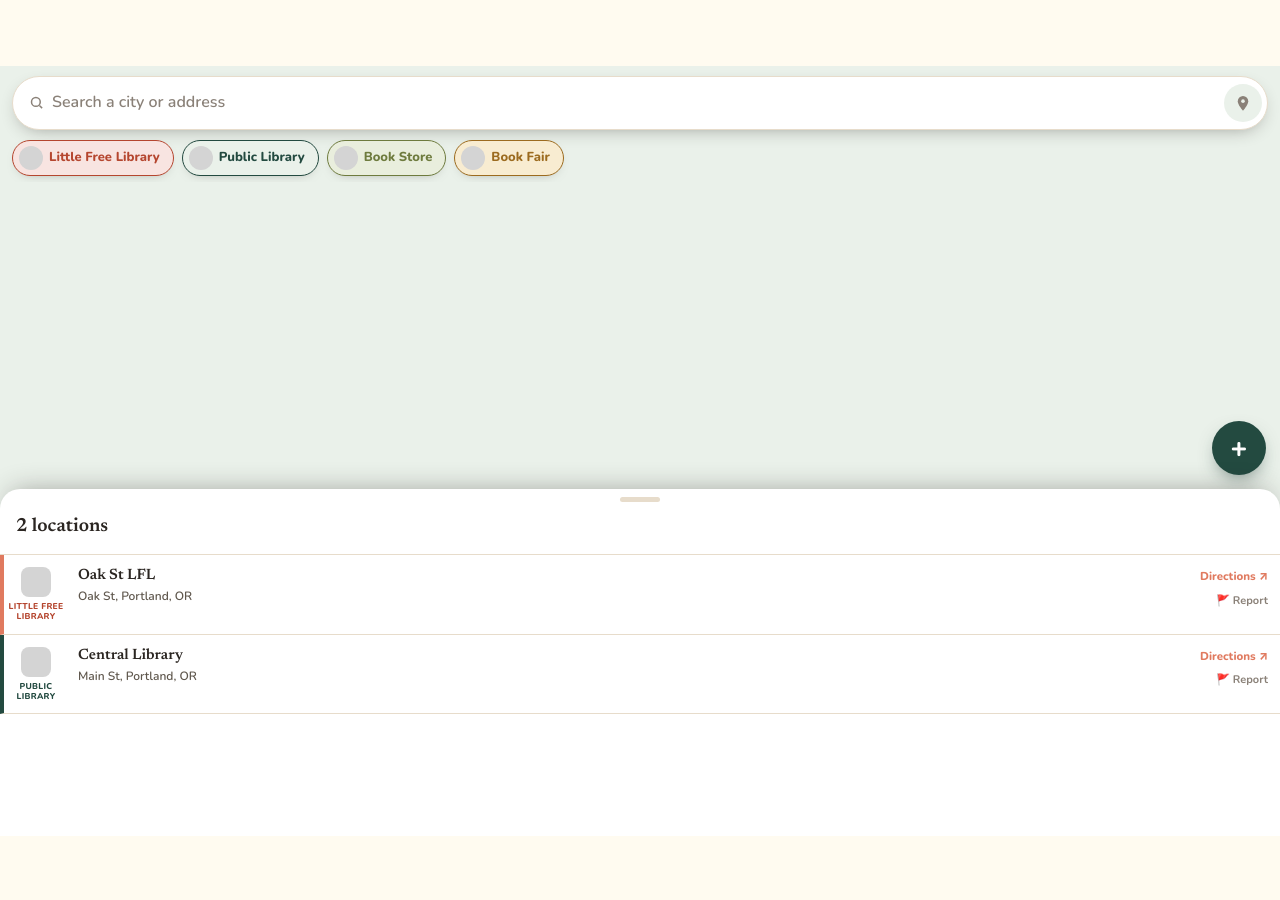
Test: Reading Trail on mobile › tapping a list row shows that location in the sheet, and Back returns to the list
Click the text "Oak St LFL" at x=117, y=576, box x1=78 y1=568 x2=155 y2=583
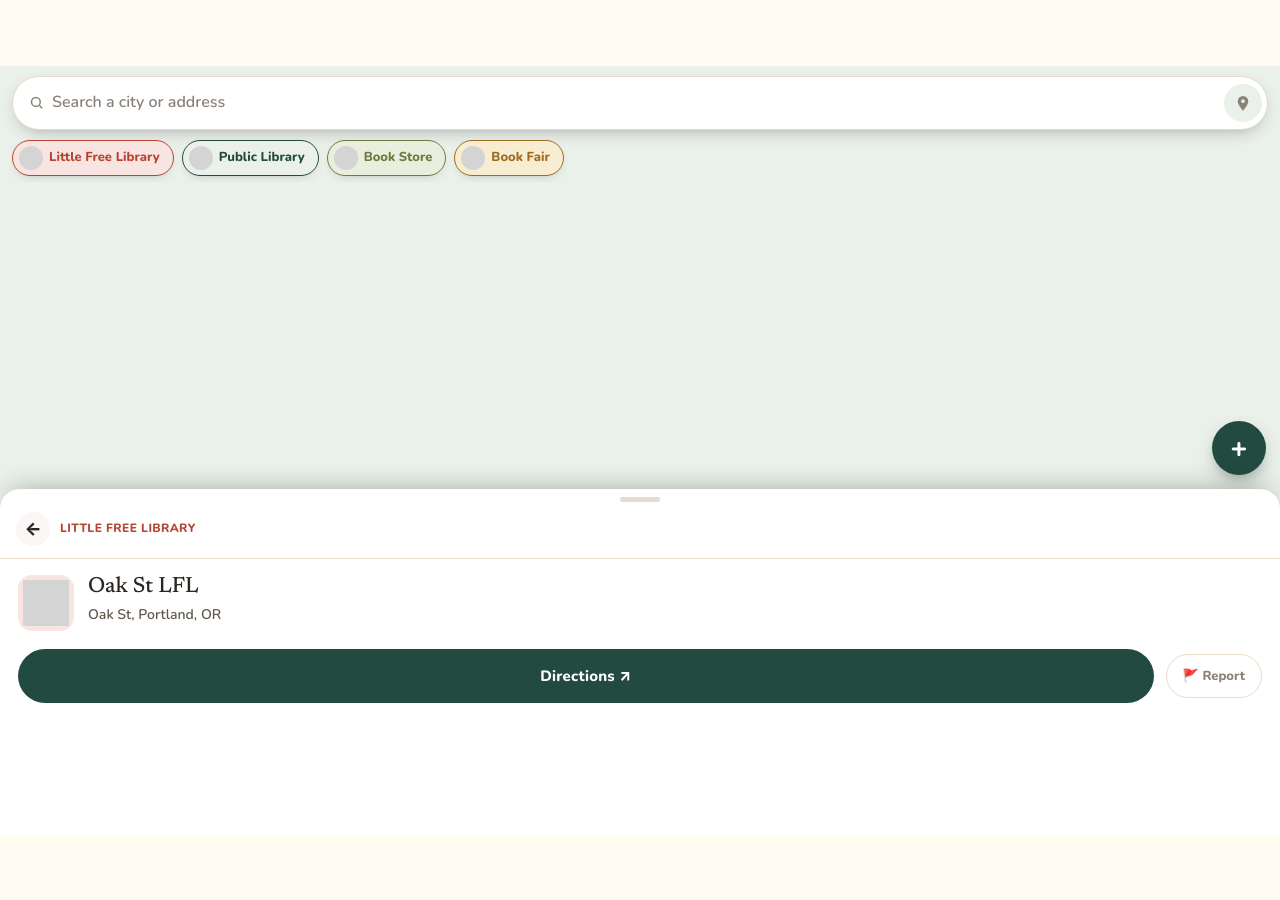
Expected: the button named "back to list" is shown
Expected: the text "Central Library" is gone
Click the button named "back to list" at x=33, y=529, box x1=16 y1=512 x2=50 y2=546
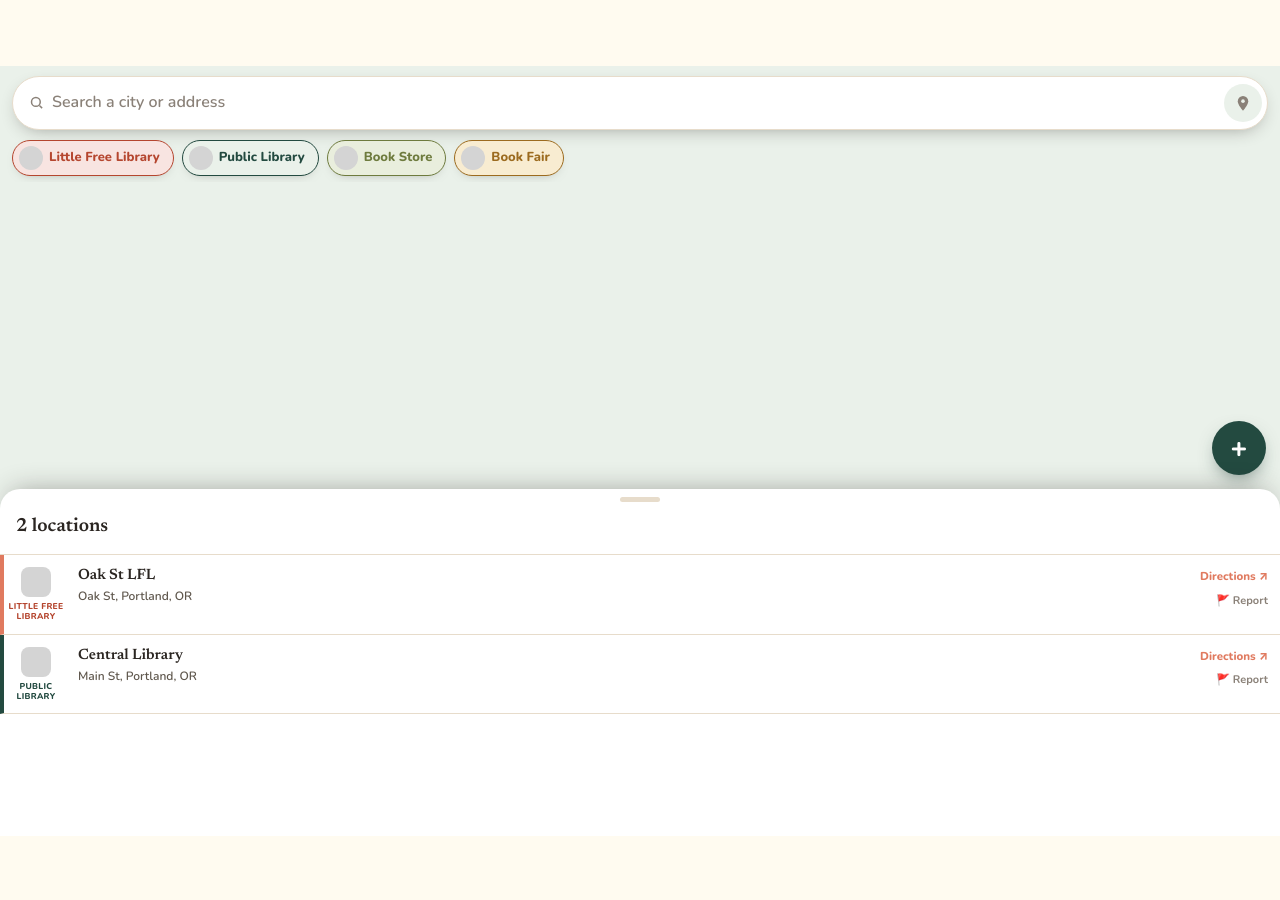
Expected: the text "Central Library" is shown, x1=78 y1=648 x2=183 y2=663
